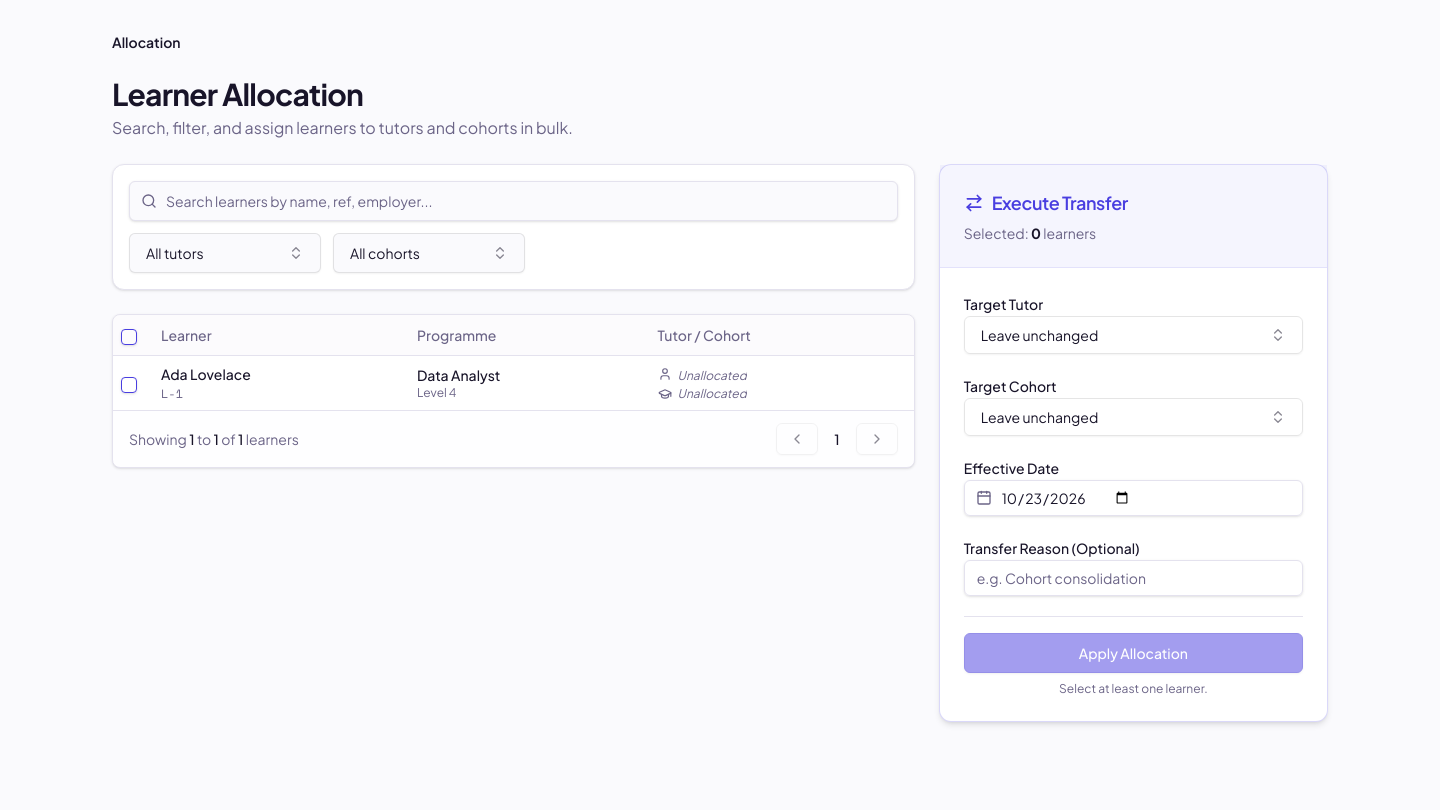
AllocationPage › narrows the target cohort picker to the chosen target tutor's own cohorts
Click the dropdown named "target tutor": (1039, 335) [964,316,1303,354]
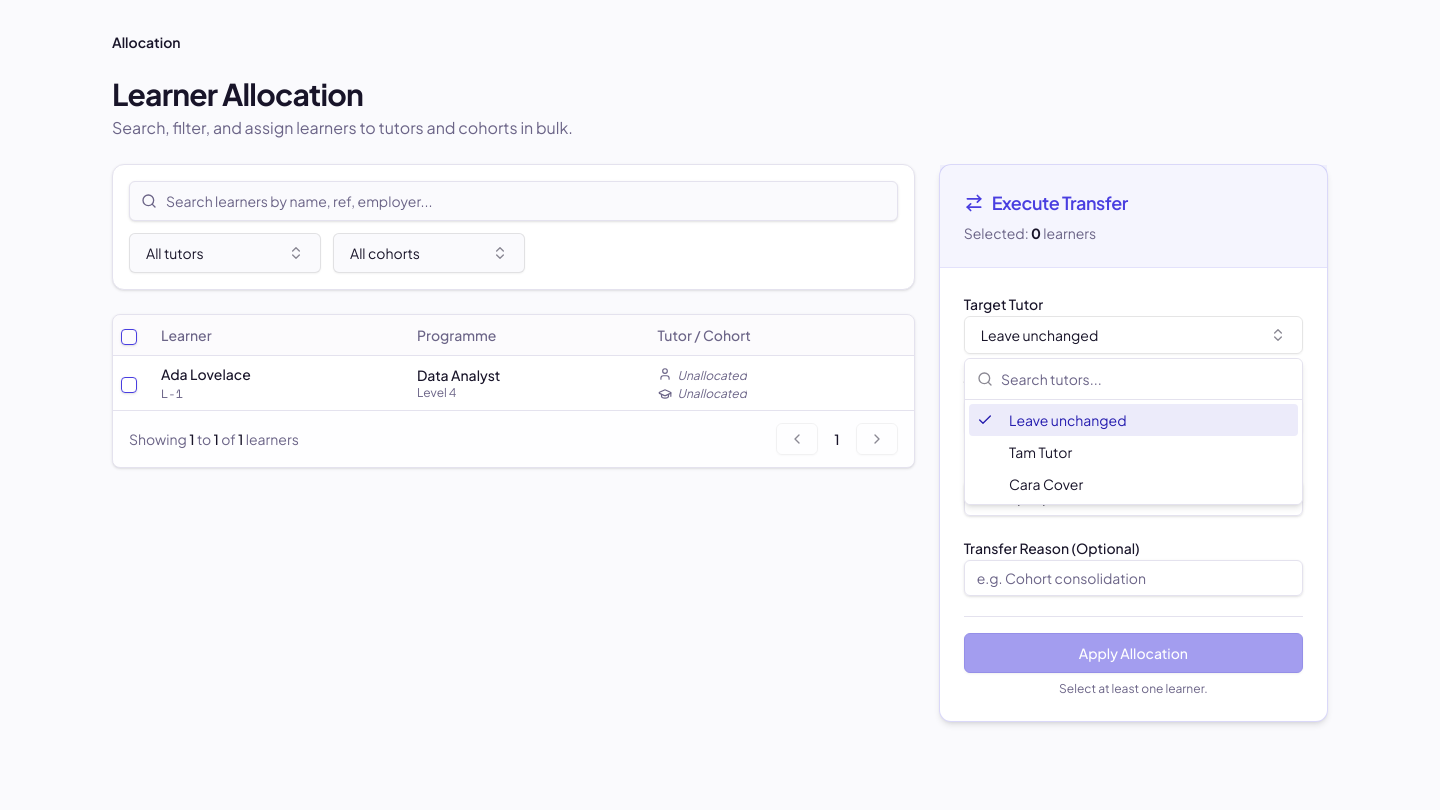
Click the option "Cara Cover": (1046, 484) [1009,475,1083,493]
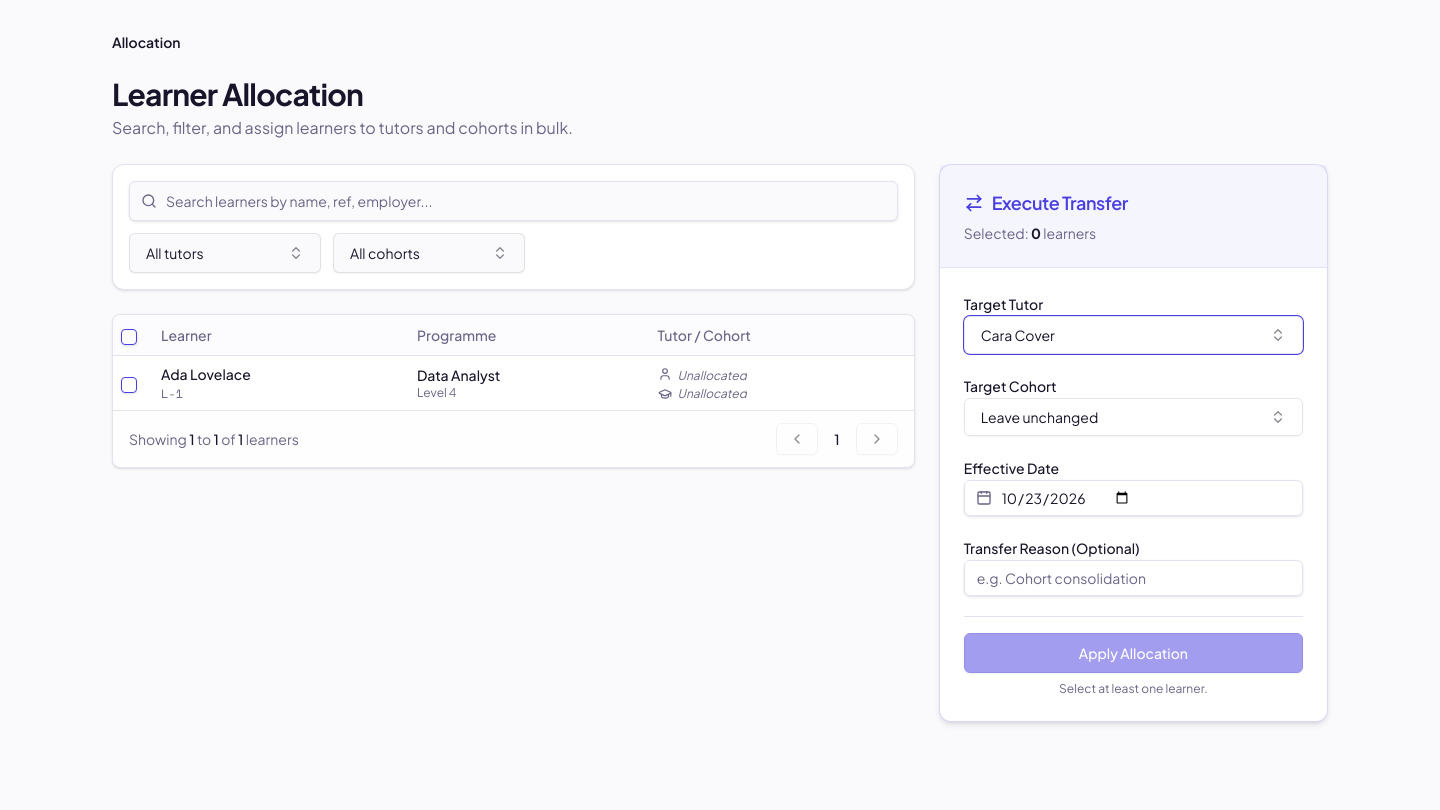
Click the dropdown named "target cohort": (1039, 417) [964,398,1303,436]
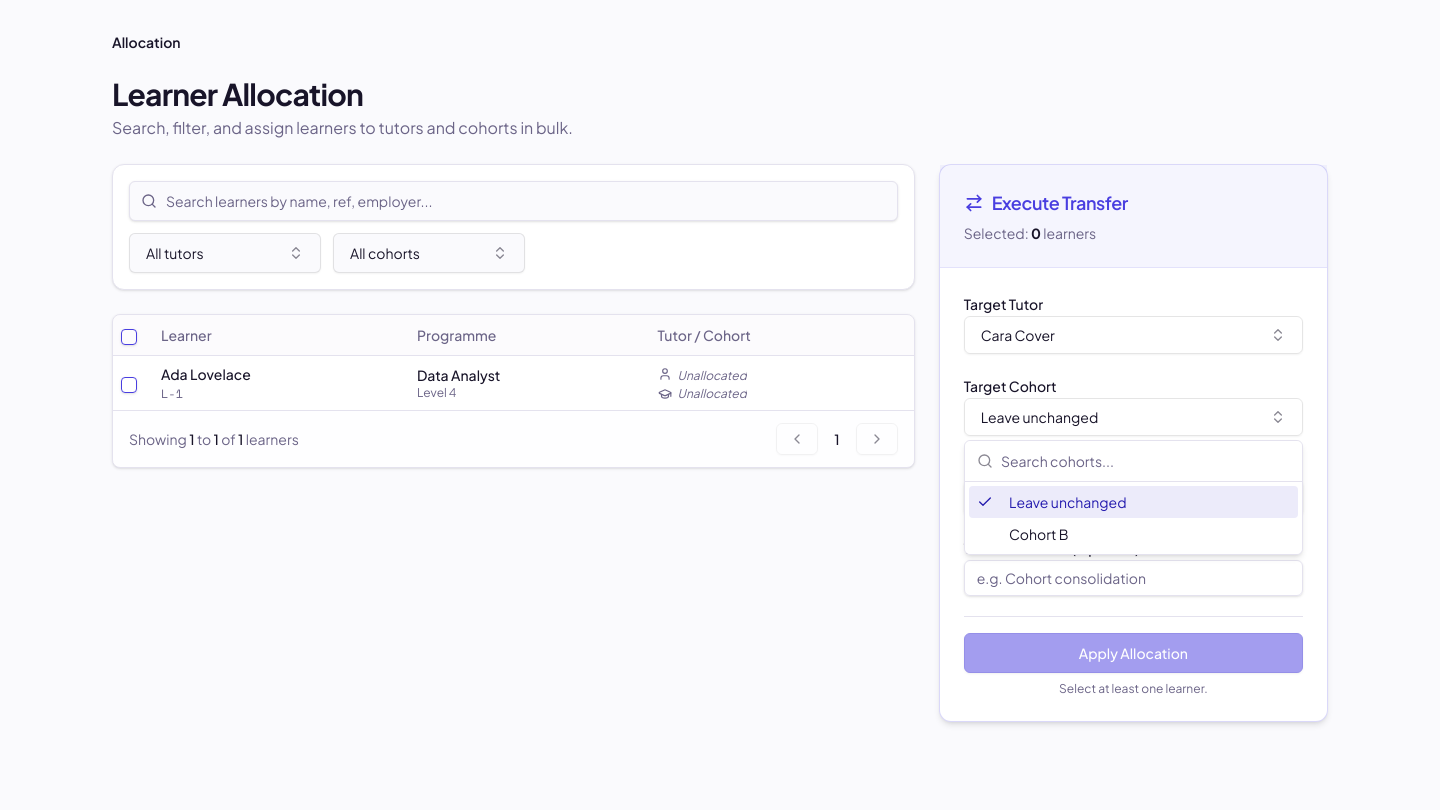
Result: the option "Cohort B" is shown at [1009,525,1068,543]
